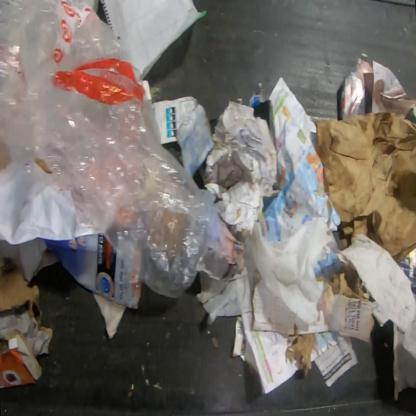cardboard: (312, 110, 415, 265), (0, 268, 54, 389), (316, 265, 371, 302), (285, 333, 317, 378)
soft_plastic: (0, 0, 213, 301)
